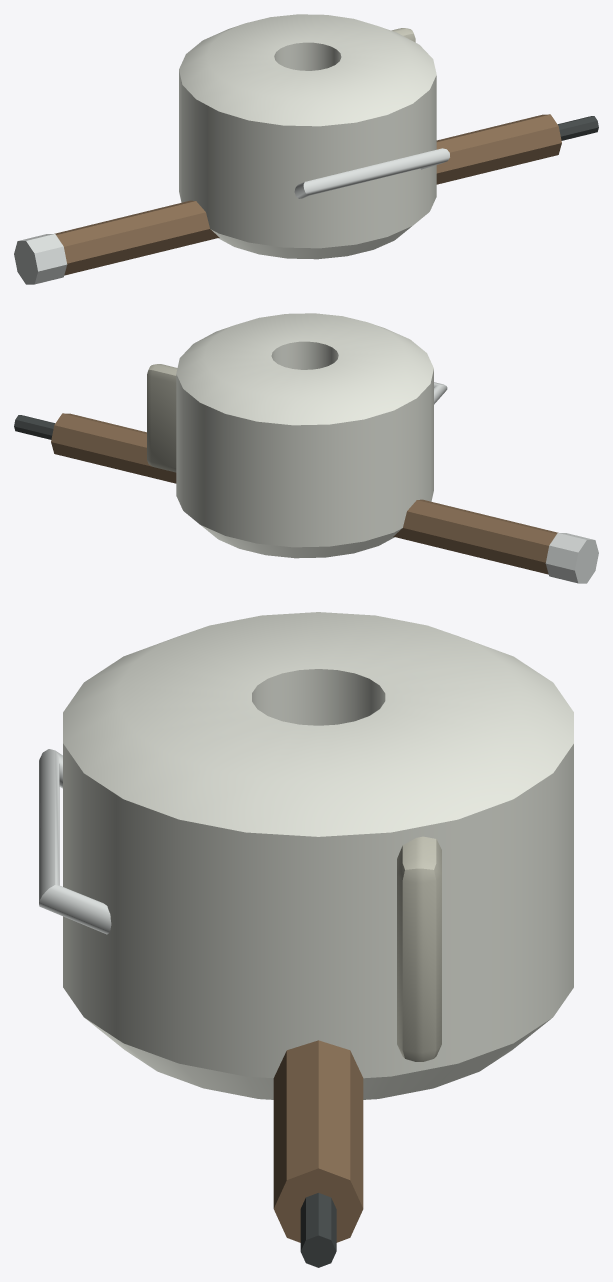
File: CTCC_PROP_CH01DrawerContents.fbx
The picture shows the model from 3 angles, top to bottom: view 1: azimuth 30°, elevation 25°; view 2: azimuth 150°, elevation 25°; view 3: azimuth 270°, elevation 25°; orthographic projection. The views are drawn at different scales.
Visible parts, largest first — view 1: DrawerGauze, DrawerPencil, DrawerClip; view 2: DrawerGauze, DrawerPencil; view 3: DrawerGauze, DrawerPencil, DrawerClip.
Boxes of the visible parts, x1,y1,x2,y2 form: DrawerGauze: [179, 14, 436, 259]; DrawerPencil: [14, 114, 598, 284]; DrawerClip: [294, 148, 449, 198]; DrawerGauze: [147, 313, 433, 558]; DrawerPencil: [14, 413, 598, 583]; DrawerGauze: [63, 612, 573, 1099]; DrawerPencil: [273, 1040, 363, 1267]; DrawerClip: [39, 749, 111, 934].
Size of the model in its own units: 0.117 by 0.0313 by 0.0477.
